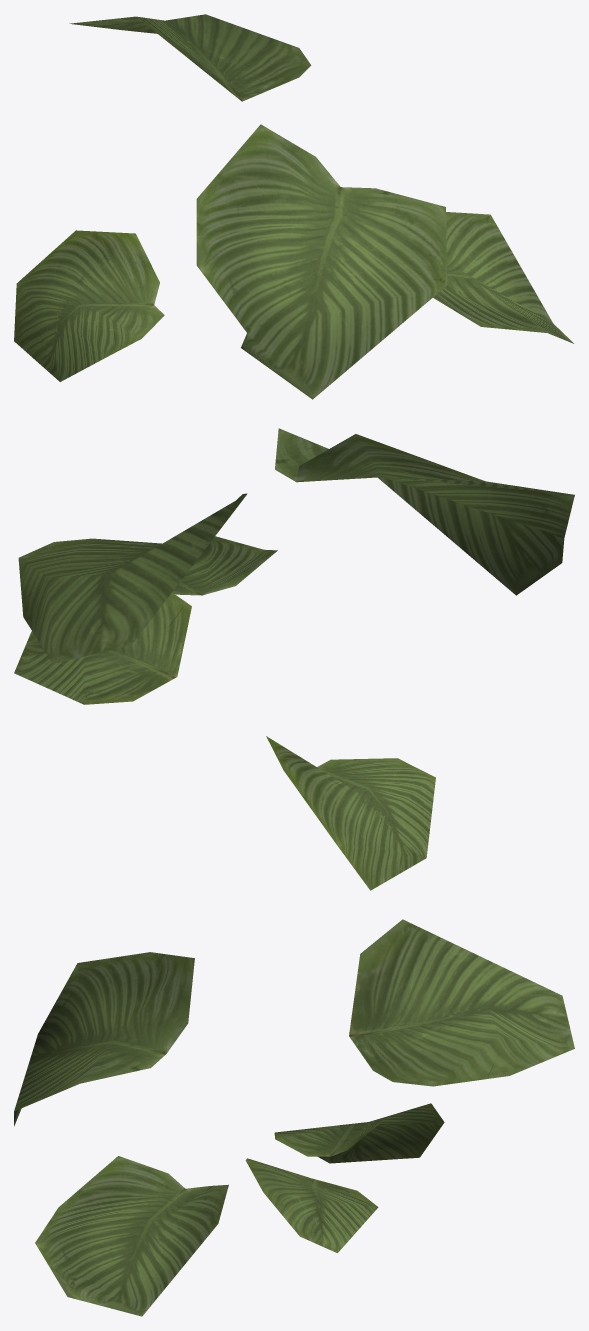
File: Vine a LOD2.fbx
3 renders of one model, top to bottom at view 1: azimuth 30°, elevation 25°; view 2: azimuth 150°, elevation 25°; view 3: azimuth 270°, elevation 25°, orthographic. The views are drawn at different scales.
Visible parts, largest first — view 1: calathea_orbifolia_01_b.002; view 2: calathea_orbifolia_01_b.002; view 3: calathea_orbifolia_01_b.002.
Boxes of the visible parts, x1,y1,x2,y2 form: calathea_orbifolia_01_b.002: (14,14,573,399); calathea_orbifolia_01_b.002: (14,428,574,890); calathea_orbifolia_01_b.002: (14,919,574,1316).
Size of the model in its own units: 32.18 by 24.09 by 41.16.
